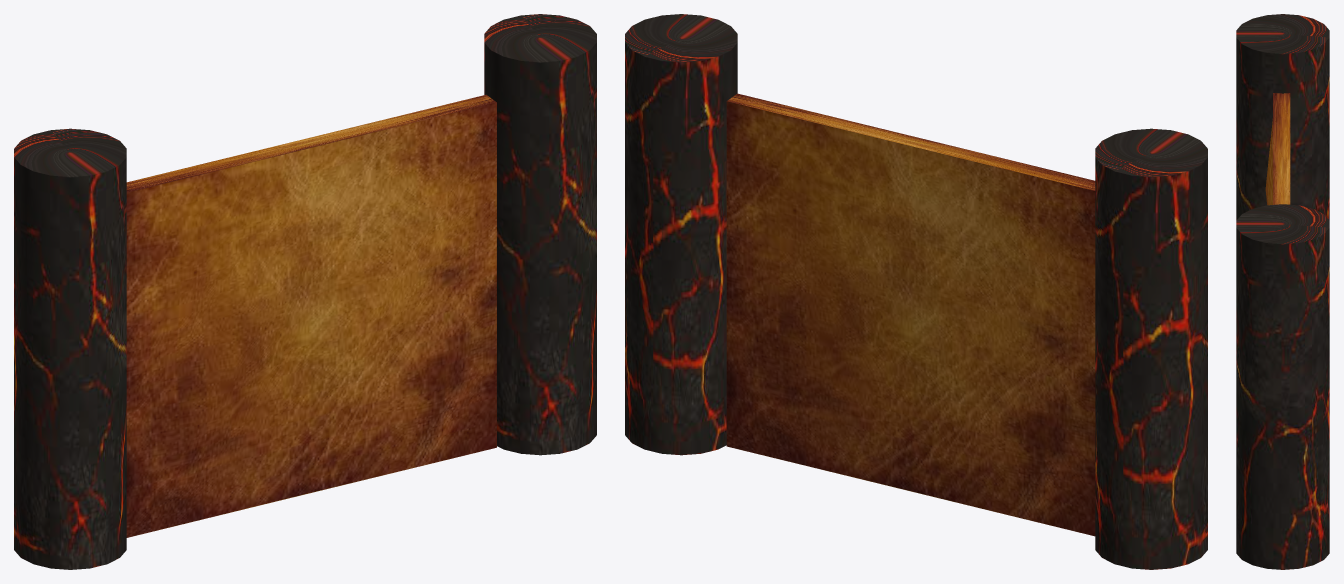
File: sample-1.FBX
3 views of the same model, side by side, from view 1: azimuth 30°, elevation 25°; view 2: azimuth 150°, elevation 25°; view 3: azimuth 270°, elevation 25° (orthographic). The views are drawn at different scales.
Visible parts, largest first — view 1: Box001, Cylinder001, Cylinder002; view 2: Box001, Cylinder001, Cylinder002; view 3: Cylinder002, Cylinder001, Box001.
Part boxes in pixels (x1=…): Box001: x1=126, y1=94, x2=496, y2=537; Cylinder001: x1=14, y1=128, x2=126, y2=569; Cylinder002: x1=484, y1=14, x2=596, y2=455; Box001: x1=726, y1=93, x2=1095, y2=536; Cylinder001: x1=1095, y1=128, x2=1207, y2=569; Cylinder002: x1=625, y1=14, x2=737, y2=455; Cylinder002: x1=1236, y1=204, x2=1329, y2=569; Cylinder001: x1=1236, y1=14, x2=1329, y2=220; Box001: x1=1265, y1=93, x2=1290, y2=205.
Size of the model in its own units: 92 by 60.68 by 15.78.
Materials: 2 (2 with a texture image).
